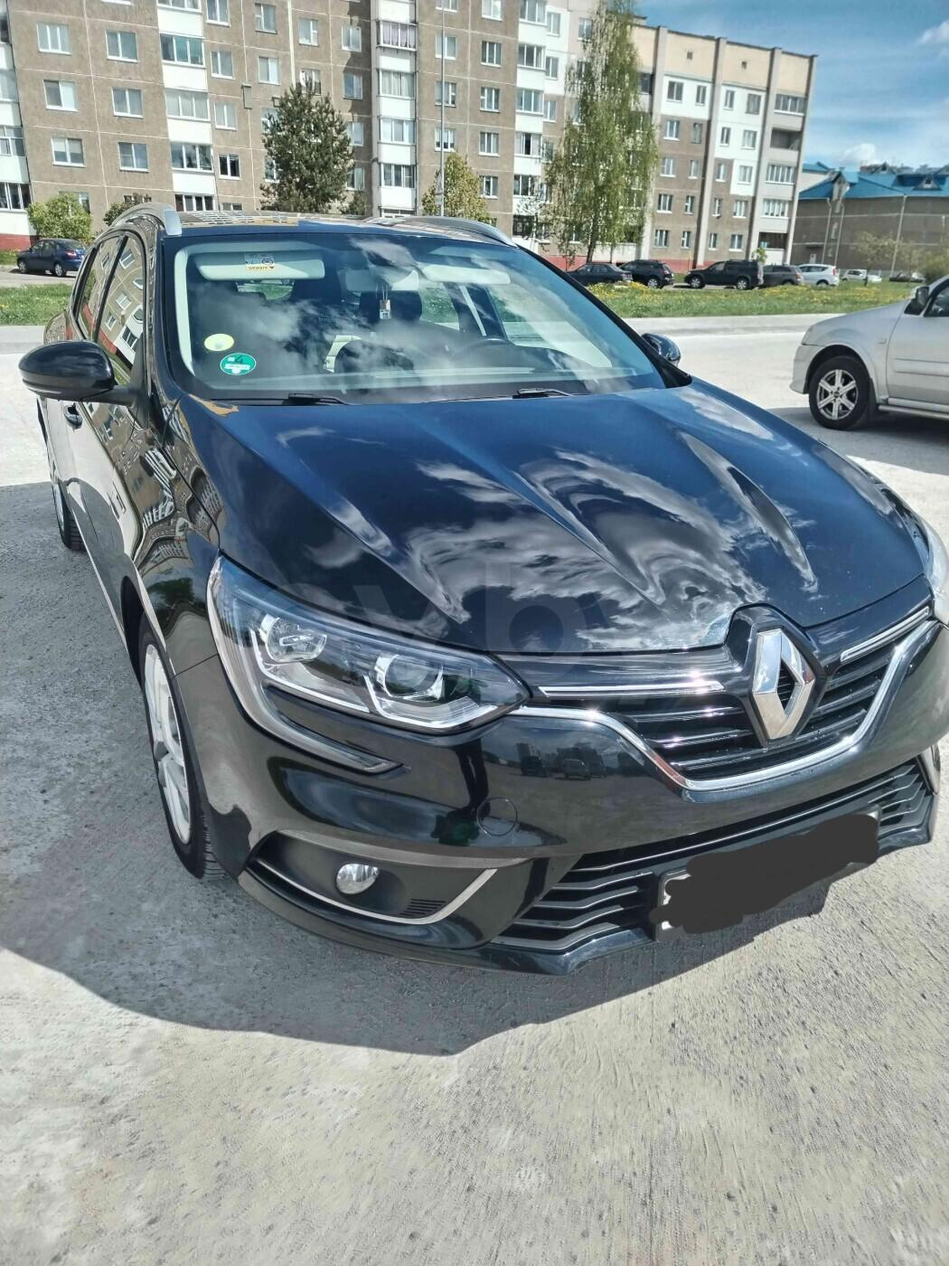Megane_2016-2020: (14, 199, 949, 975)
